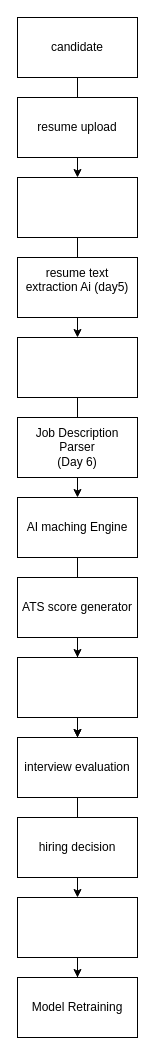
Image size: 155x1055. Some labels were removed from this diagram. The shapes that lost their labels are listed below. From the top down, each one's centre as x and y in pixels, then its label:
At point 77,207: "resume storage".
At point 77,367: "candidate profile database".
At point 77,687: "screening report".
At point 77,927: "Training Dataset Storage".
